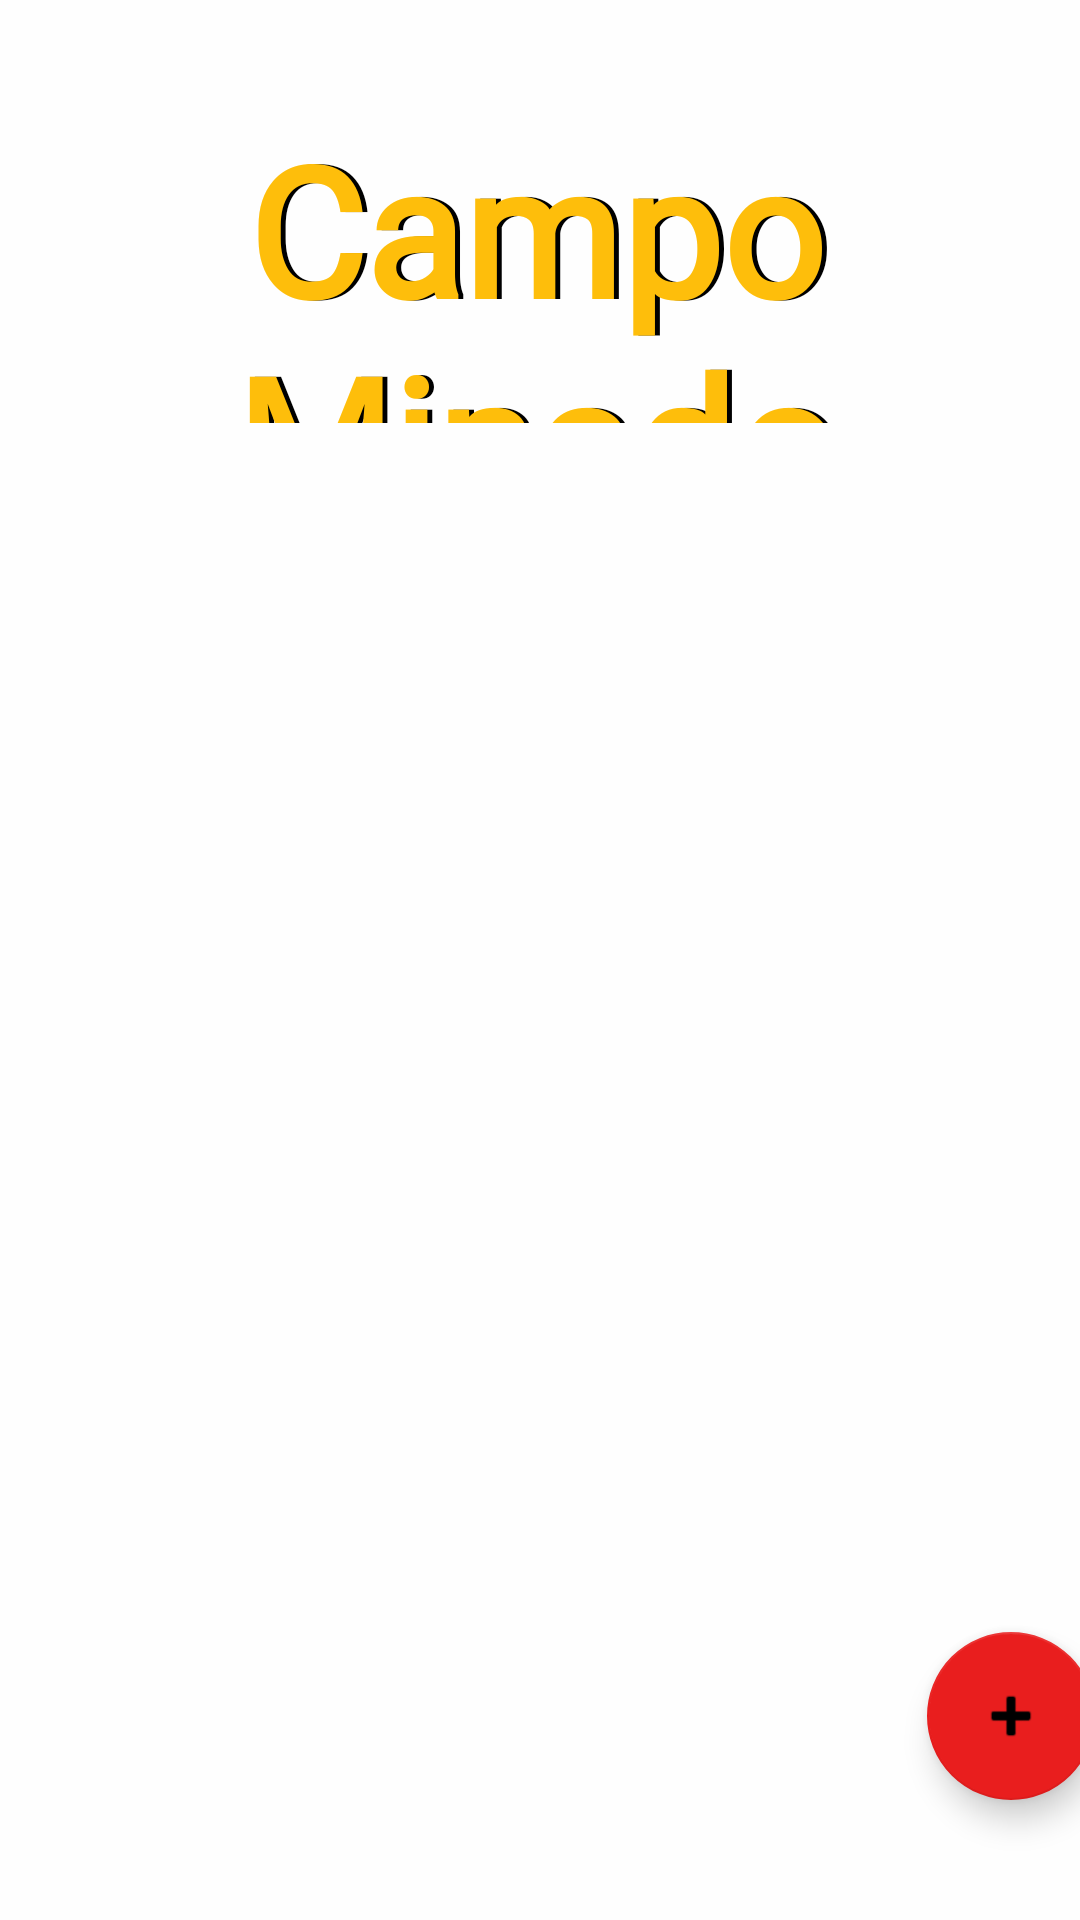

Icons on this 1080w x 1920h Android screen, each with its box as (x1, y1, x2, y2):
add: (927, 1632, 1080, 1800)
